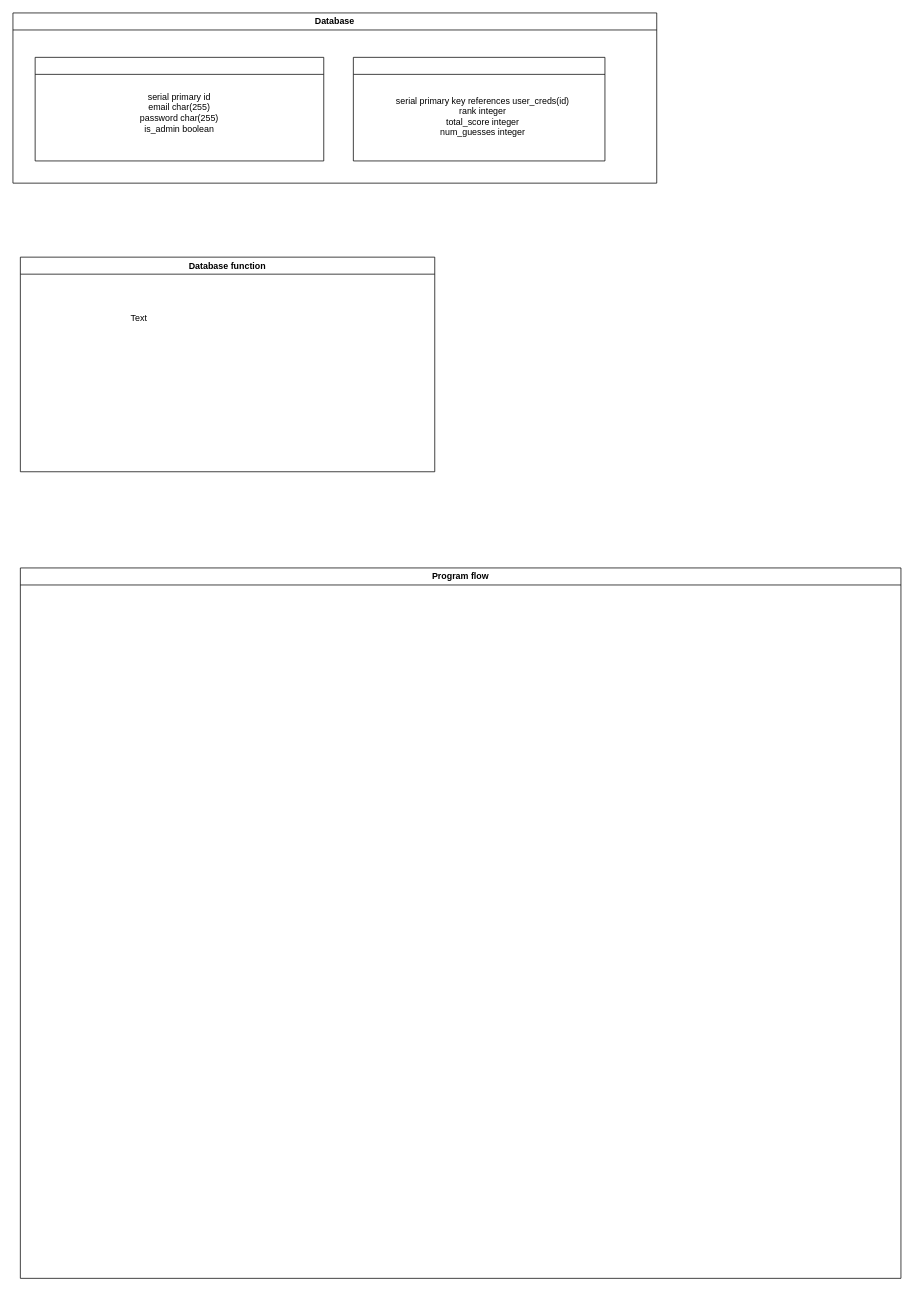
The diagram is 914 pixels wide and 1291 high, and some of its shapes have lost their labels. Here are the shapes that lost their labels. From the top down, the box of each, then its label:
(34, 57, 324, 161): user_creds
(353, 57, 605, 161): user_ranks
